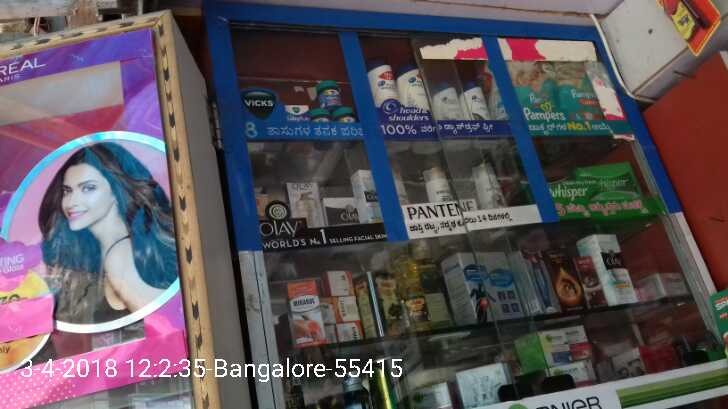vicks: (283, 77, 358, 127)
